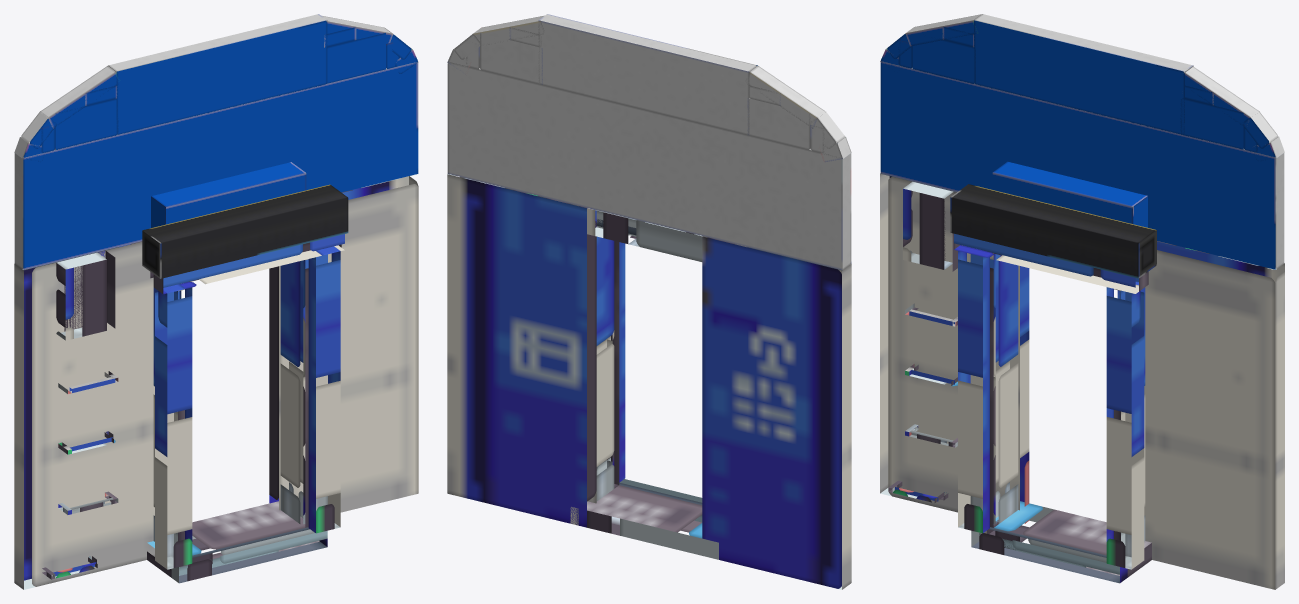
The model's file is end_face_original_25k_2.obj.
The picture shows the model from 3 angles, left to right: view 1: azimuth 30°, elevation 25°; view 2: azimuth 150°, elevation 25°; view 3: azimuth 330°, elevation 25°; orthographic projection.
Parts seen in each view (by area): view 1: cube; view 2: cube; view 3: cube.
Boxes of the visible parts, x1,y1,x2,y2 form: cube: [14, 14, 418, 589]; cube: [447, 14, 851, 589]; cube: [880, 14, 1284, 589].
Size of the model in its own units: 3 by 3.58 by 0.5594.
